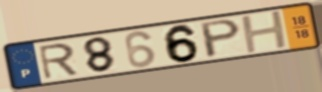6: (162, 22, 204, 64), (122, 29, 161, 69)
8: (81, 35, 118, 75)
H: (238, 8, 291, 56)
P: (199, 18, 243, 60)
R: (36, 42, 81, 81)
